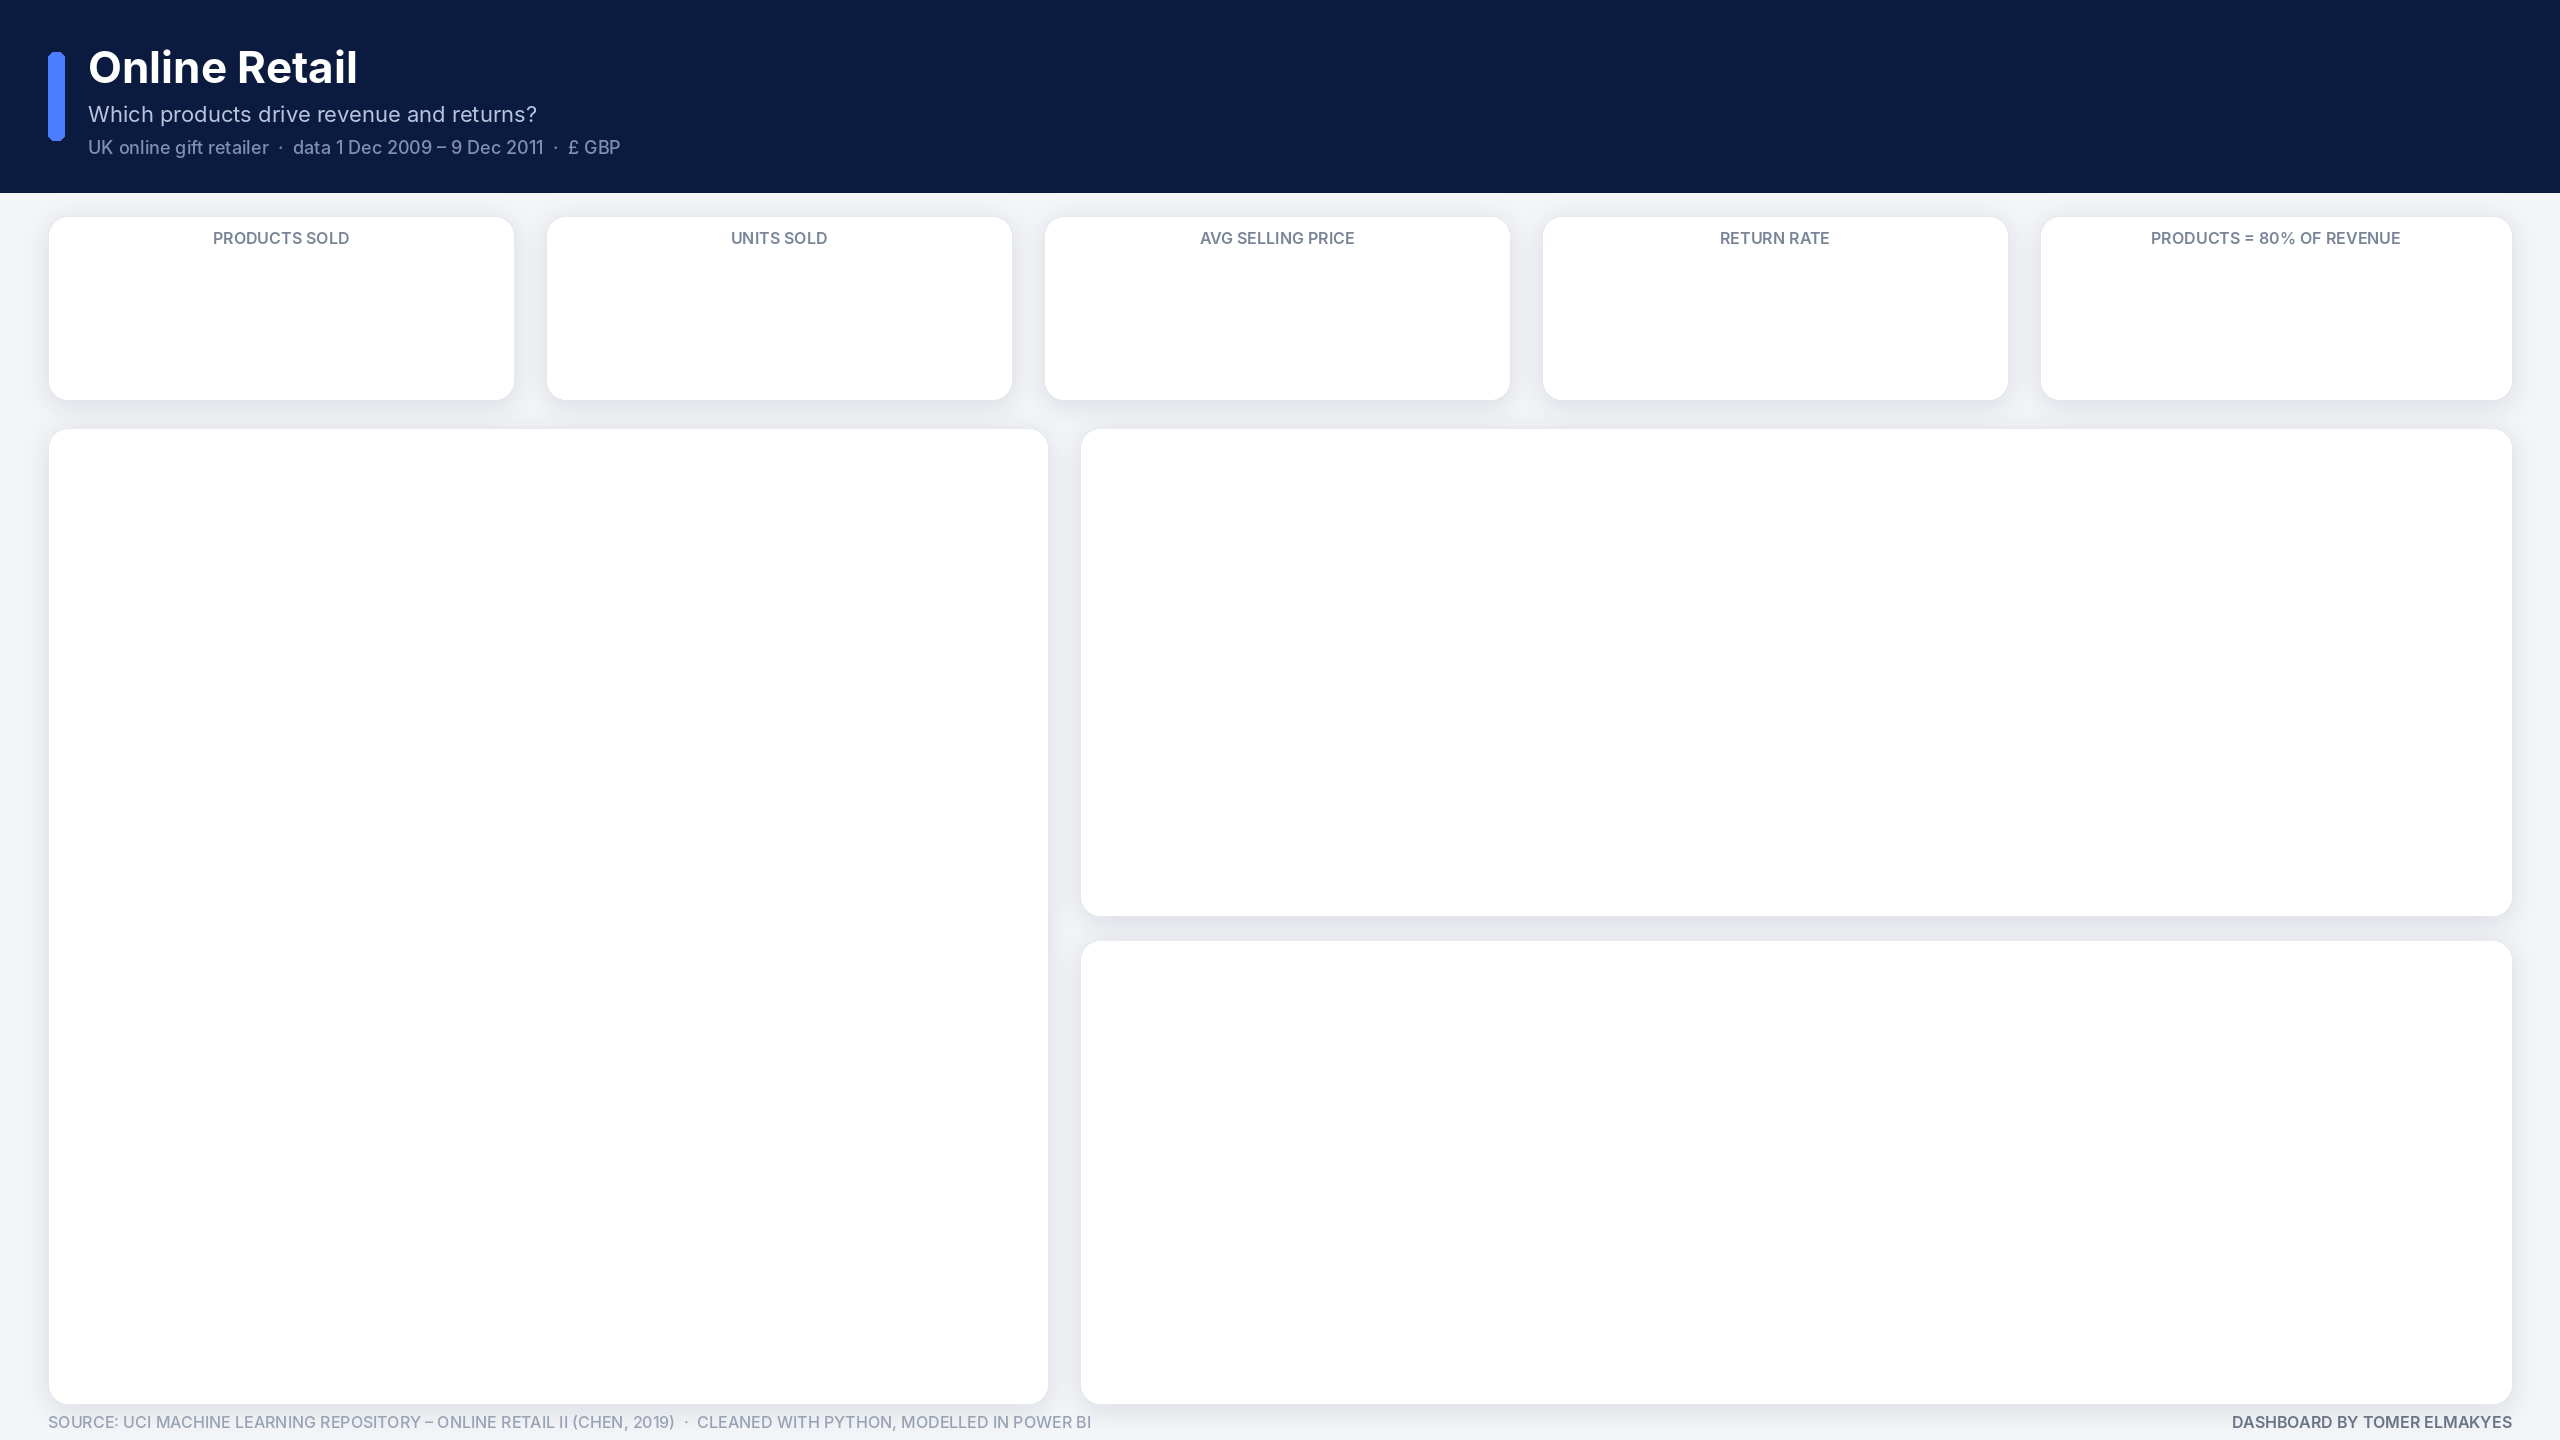

Layout of this report page (visuals, bound fields, positions):
{"tool":"powerbi","page":{"name":"Products","canvas":[1280,720],"ordinal":3},"visuals":[{"type":"actionButton","box":[350,34,88,30],"z":4900},{"type":"actionButton","box":[444,34,94,30],"z":5000},{"type":"actionButton","box":[544,34,88,30],"z":5100},{"type":"actionButton","box":[638,34,82,30],"z":5200},{"type":"actionButton","box":[726,34,108,30],"z":5300},{"type":"slicer","fields":{"Values":["Calendar.Year"]},"box":[880,22,160,62],"z":5400},{"type":"slicer","fields":{"Values":["Geography.Market"]},"box":[1056,22,200,62],"z":5500},{"type":"card","fields":{"Values":["_Measures.Products Sold"]},"box":[24,132,233,52],"z":5600},{"type":"card","fields":{"Values":["_Measures.Units Sold"]},"box":[273,132,233,52],"z":5700},{"type":"card","fields":{"Values":["_Measures.Avg Selling Price"]},"box":[522,132,233,52],"z":5800},{"type":"card","fields":{"Values":["_Measures.Return Rate"]},"box":[771,128,233,42],"z":5900},{"type":"card","fields":{"Values":["_Measures.Return Rate vs PY"]},"box":[771,172,233,22],"z":6000},{"type":"card","fields":{"Values":["_Measures.Products driving 80% of revenue"]},"box":[1020,132,236,52],"z":6100},{"type":"clusteredBarChart","title":"Top 15 products by net revenue","fields":{"Category":["Product.Product"],"Y":["_Measures.Top 15 Products"]},"box":[24,214,500,488],"z":6200},{"type":"lineClusteredColumnComboChart","title":"Pareto  ·  revenue concentration across products (all-time)","fields":{"Category":["Product.ProductPercentile"],"Y":["_Measures.Share of Revenue (all-time)"],"Y2":["_Measures.Cumulative Share (all-time)"]},"box":[540,214,716,244],"z":6300},{"type":"tableEx","title":"Products with the highest return rate","fields":{"Values":["Product.Product","_Measures.Gross Sales","_Measures.Returns Value","_Measures.Return Rate (min £5K sales)"]},"box":[540,470,716,232],"z":6400}]}

Visuals, with their boxes in screenshot pixels (x1, y1, x2, y2), scaled from the page's 1280x720 canvas onto the 2560x1440 screenshot:
actionButton: 700/68/876/128
actionButton: 888/68/1076/128
actionButton: 1088/68/1264/128
actionButton: 1276/68/1440/128
actionButton: 1452/68/1668/128
slicer - Calendar.Year: 1760/44/2080/168
slicer - Geography.Market: 2112/44/2512/168
card - _Measures.Products Sold: 48/264/514/368
card - _Measures.Units Sold: 546/264/1012/368
card - _Measures.Avg Selling Price: 1044/264/1510/368
card - _Measures.Return Rate: 1542/256/2008/340
card - _Measures.Return Rate vs PY: 1542/344/2008/388
card - _Measures.Products driving 80% of revenue: 2040/264/2512/368
"Top 15 products by net revenue" clusteredBarChart: 48/428/1048/1404
"Pareto  ·  revenue concentration across products (all-time)" lineClusteredColumnComboChart: 1080/428/2512/916
"Products with the highest return rate" tableEx: 1080/940/2512/1404
